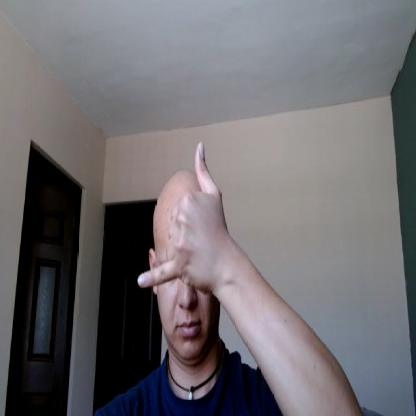Y: (138, 140, 224, 294)
